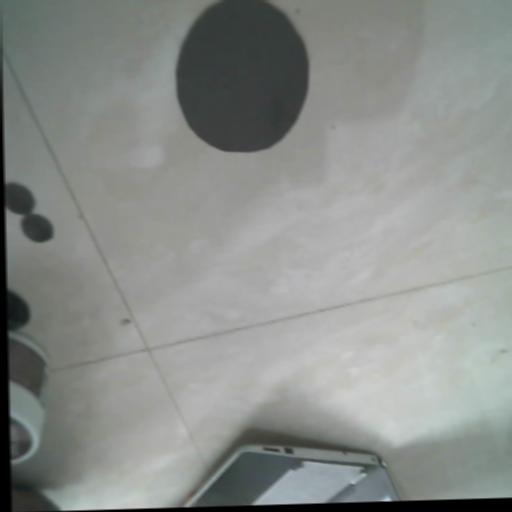pothole: (173, 0, 312, 154), (19, 212, 55, 243), (6, 288, 32, 330), (4, 181, 35, 216)
